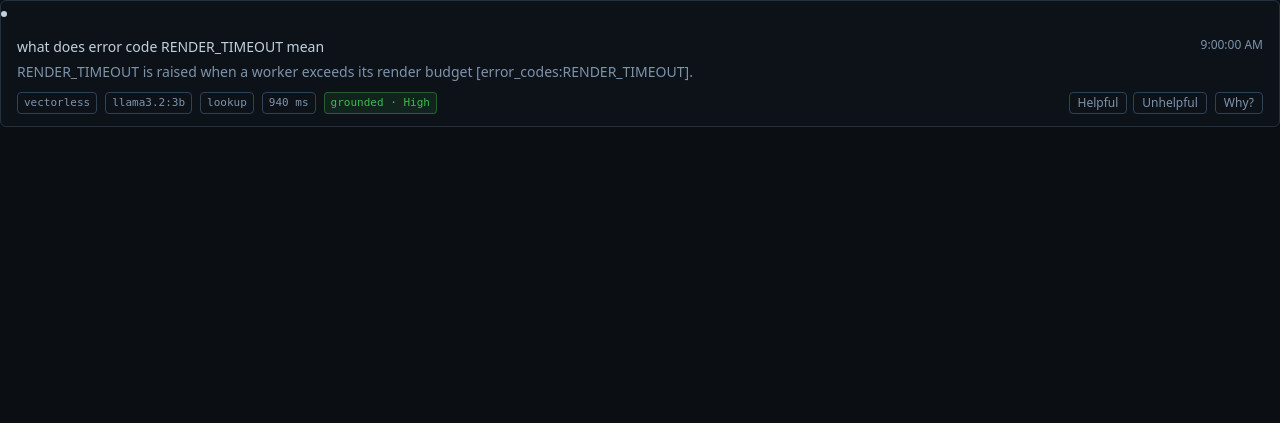
TransactionRow › reveals the rationale panel on demand rather than by default
This screenshot has width=1280, height=423.
expect the text "Citations (1)" is not shown: met
Click the button "Why?" at (1239, 103), box [1215, 92, 1263, 114]
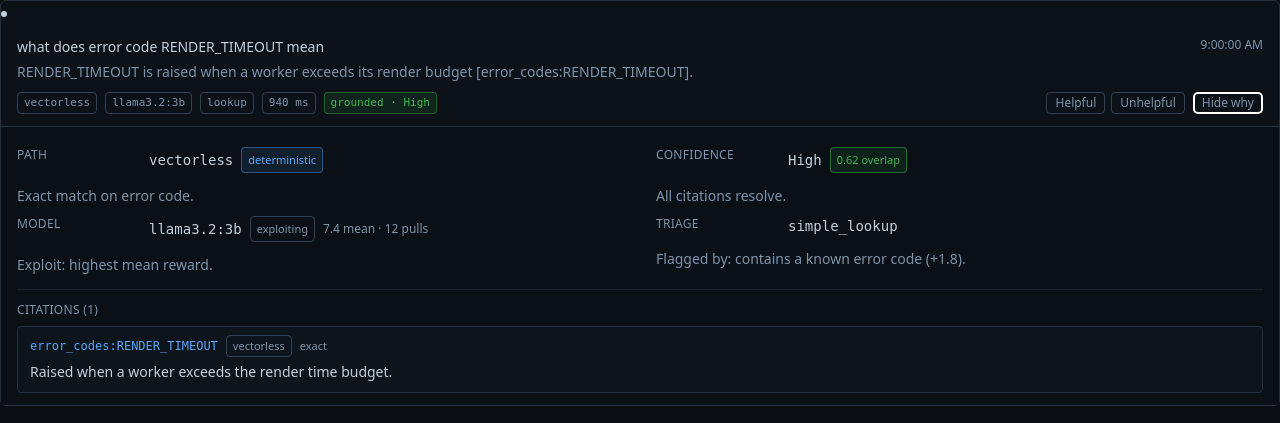
expect the text "Citations (1)" is shown: met, box [17, 301, 98, 318]
